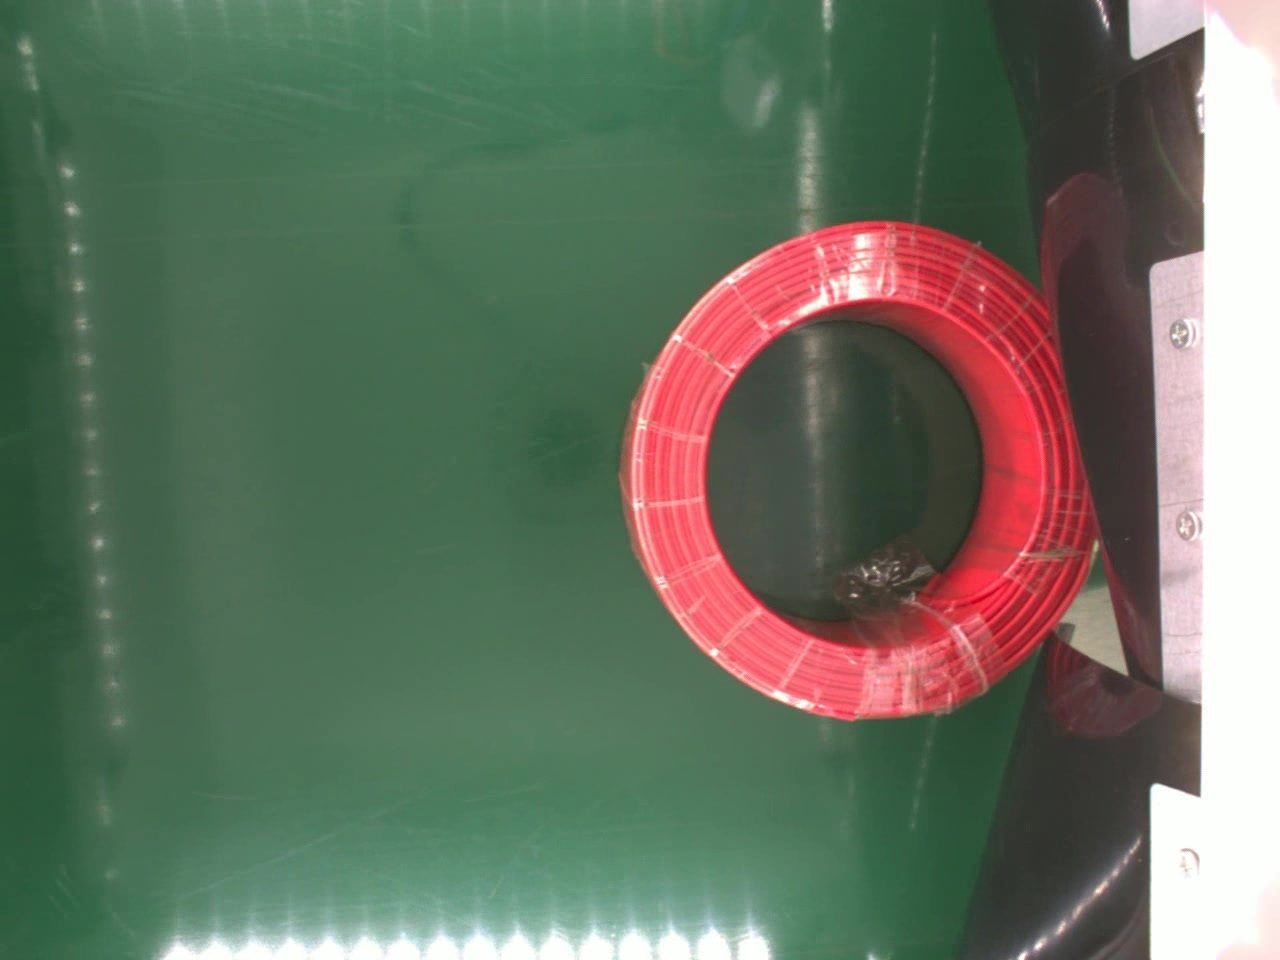red: (615, 219, 1097, 721)
